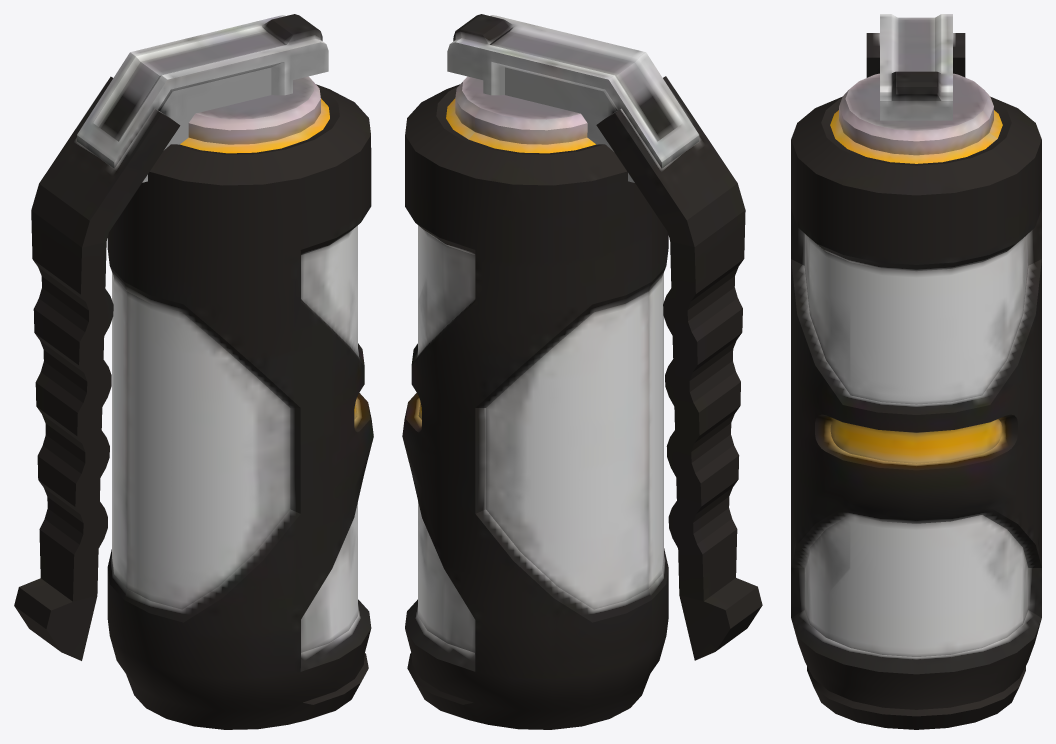
File: Prop_Grenade.glb
3 renders of one model, left to right at view 1: azimuth 30°, elevation 25°; view 2: azimuth 150°, elevation 25°; view 3: azimuth 270°, elevation 25°, orthographic. The views are drawn at different scales.
Parts seen in each view (by area): view 1: Prop_Grenade; view 2: Prop_Grenade; view 3: Prop_Grenade.
Part boxes in pixels (x1=…): Prop_Grenade: x1=14, y1=14, x2=373, y2=729; Prop_Grenade: x1=402, y1=14, x2=762, y2=729; Prop_Grenade: x1=791, y1=14, x2=1041, y2=729.
Bounding box in the file's own units: 0.1272 × 0.2409 × 0.087.
Materials: 1 (1 with a texture image).
